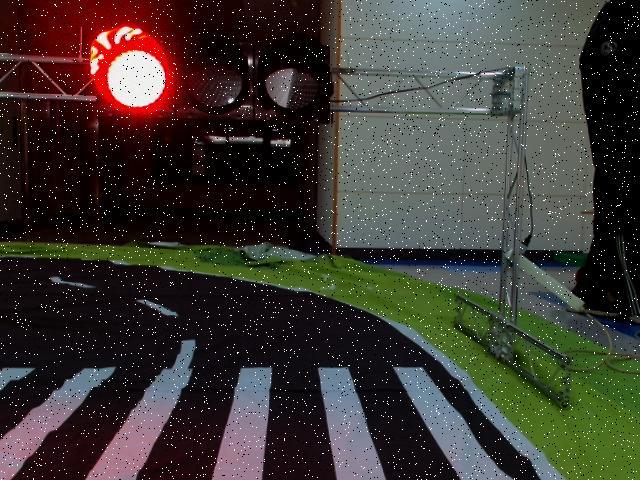crosswalk: (0, 361, 525, 480)
traffic light-red-: (92, 32, 334, 125)
